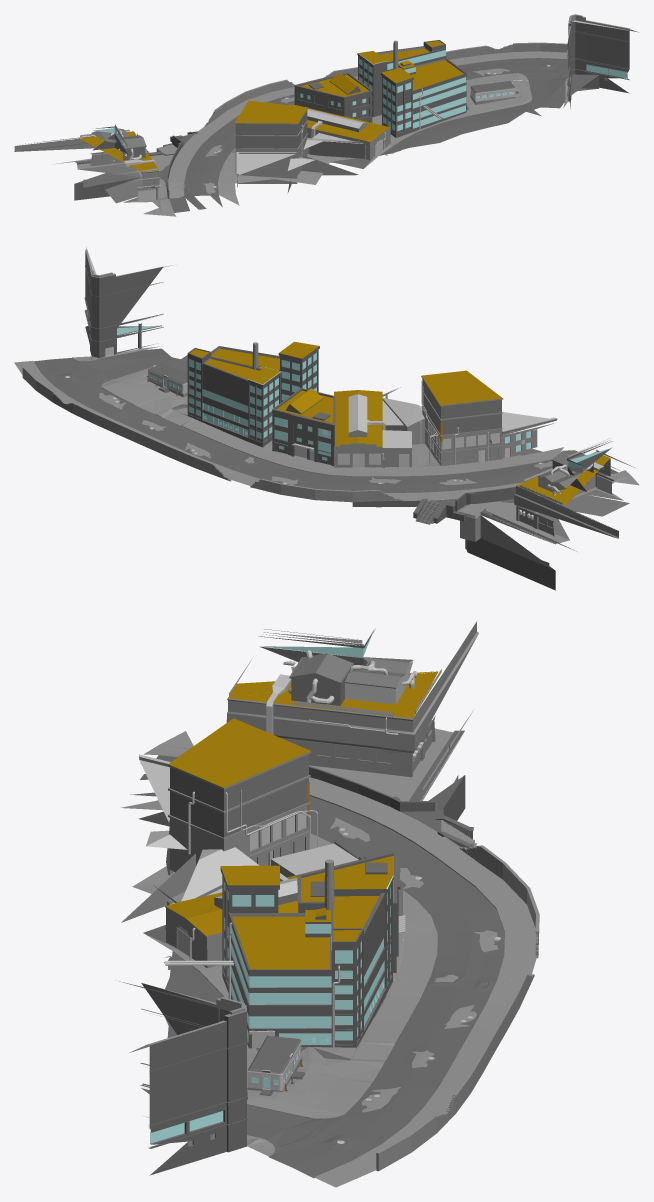
Rendered from brook_n_10.FBX.
3 renders of one model, top to bottom at view 1: azimuth 30°, elevation 25°; view 2: azimuth 150°, elevation 25°; view 3: azimuth 270°, elevation 25°, orthographic. The views are drawn at different scales.
Parts seen in each view (by area): view 1: null, unnamed; view 2: null, unnamed; view 3: null, unnamed.
Part boxes in pixels (<box>): null: <box>14,51,427,216</box>; unnamed: <box>330,14,638,147</box>; null: <box>212,341,639,590</box>; unnamed: <box>14,247,301,474</box>; null: <box>121,621,539,1003</box>; unnamed: <box>119,859,528,1187</box>.
Size of the model in its own units: 228 by 46.89 by 76.78.
